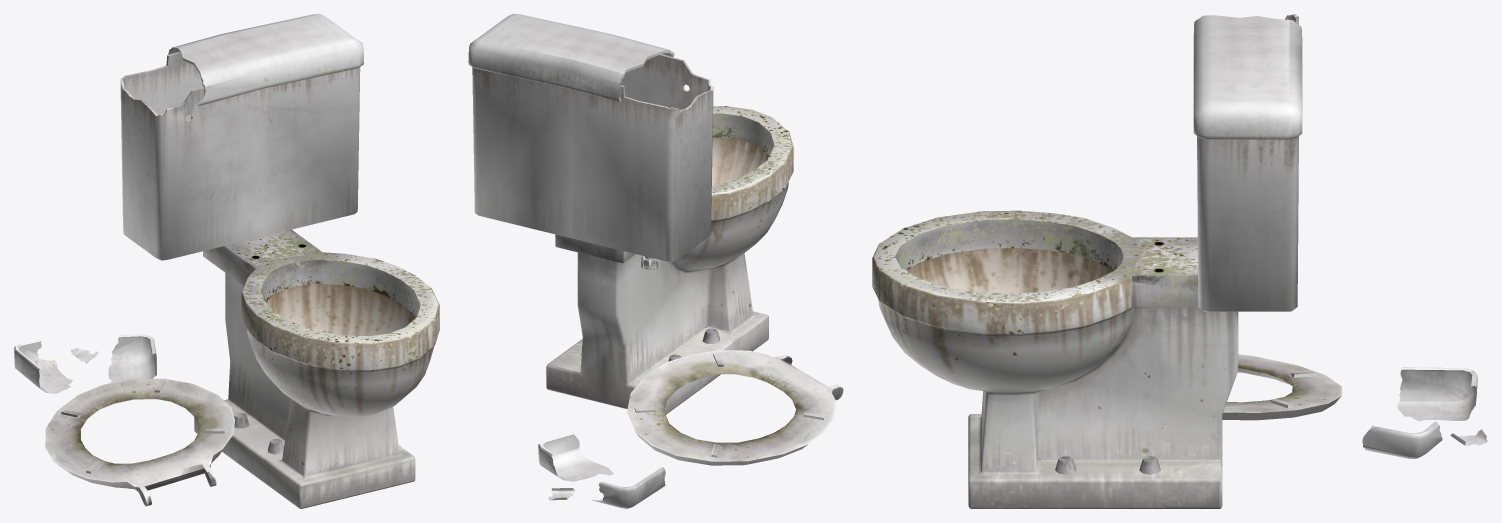
The model's file is 12_Toilet_Filthy.glb.
The picture shows the model from 3 angles, left to right: view 1: azimuth 30°, elevation 25°; view 2: azimuth 150°, elevation 25°; view 3: azimuth 270°, elevation 25°; orthographic projection. The views are drawn at different scales.
Visible parts, largest first — view 1: toilet_Filthy_baseMesh; view 2: toilet_Filthy_baseMesh; view 3: toilet_Filthy_baseMesh.
Part boxes in pixels (x1,y1,x2,y2): toilet_Filthy_baseMesh: (14, 14, 439, 508); toilet_Filthy_baseMesh: (468, 14, 843, 508); toilet_Filthy_baseMesh: (872, 14, 1487, 508).
Bounding box in the file's own units: 0.6719 × 0.7621 × 0.9834.
Materials: 2 (2 with a texture image).
